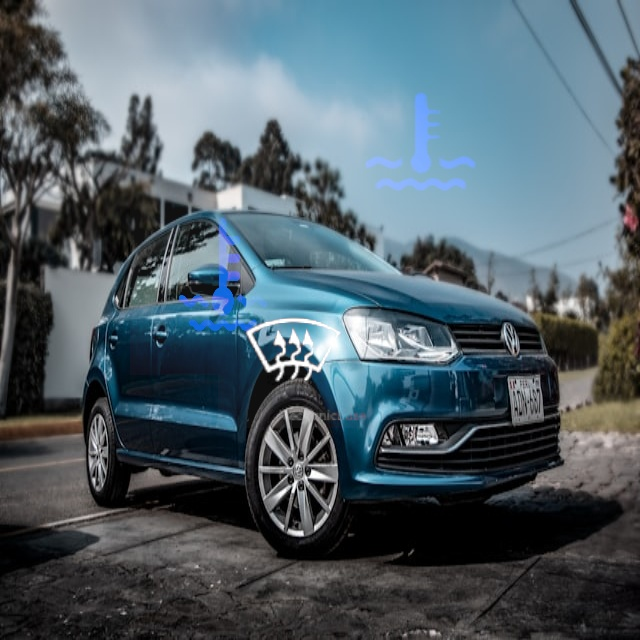symbol: (130, 180, 325, 375), (338, 60, 503, 225), (218, 274, 372, 428)
